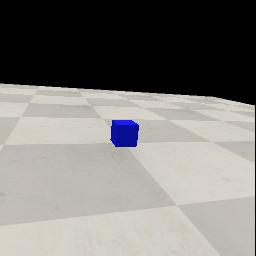box: (110, 120, 139, 147)
